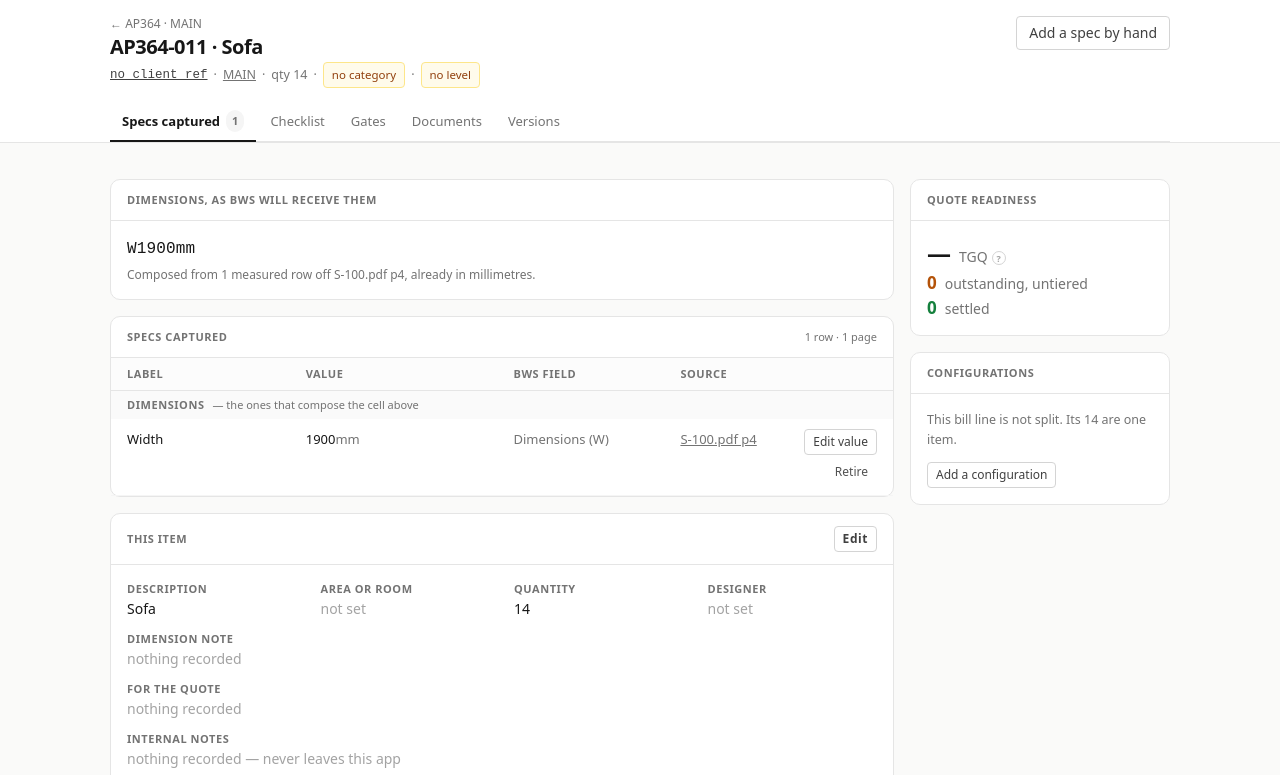
Test case: correcting a spec from the record › keeps the button alive when the server answers with something else
Click the button "Edit value".
click(841, 442)  # box top-left (804, 429), bottom-right (877, 455)
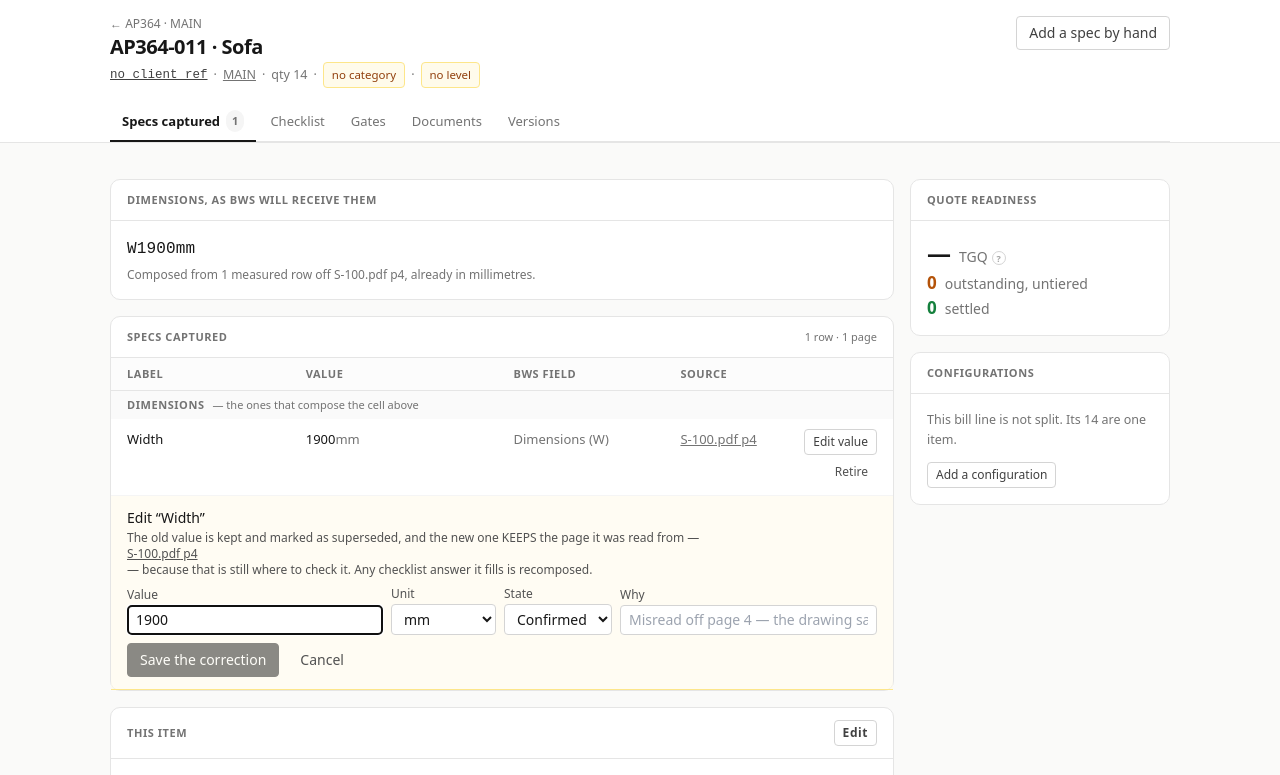
Type "Misread" into the field labelled "Why".
click(748, 620); type("Misread")  # box top-left (620, 605), bottom-right (877, 635)
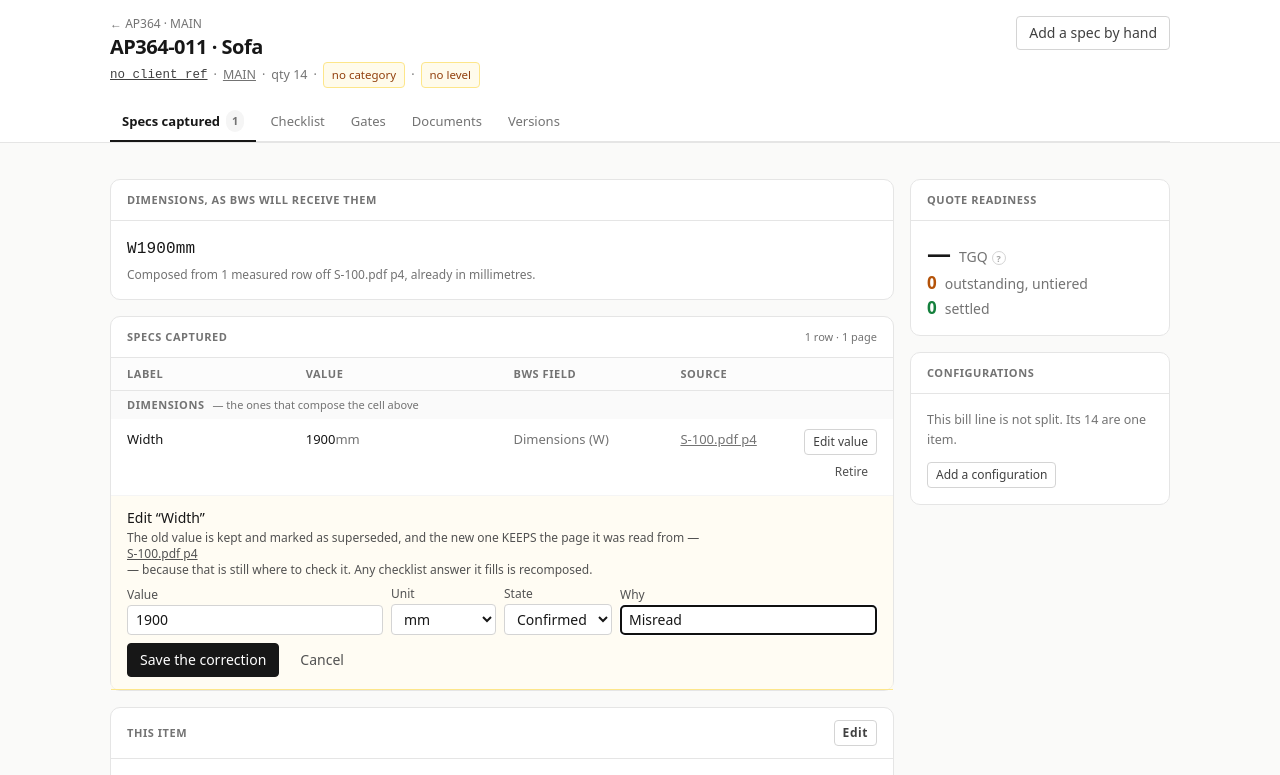
Click the button "Save the correction".
click(203, 660)  # box top-left (127, 643), bottom-right (279, 677)
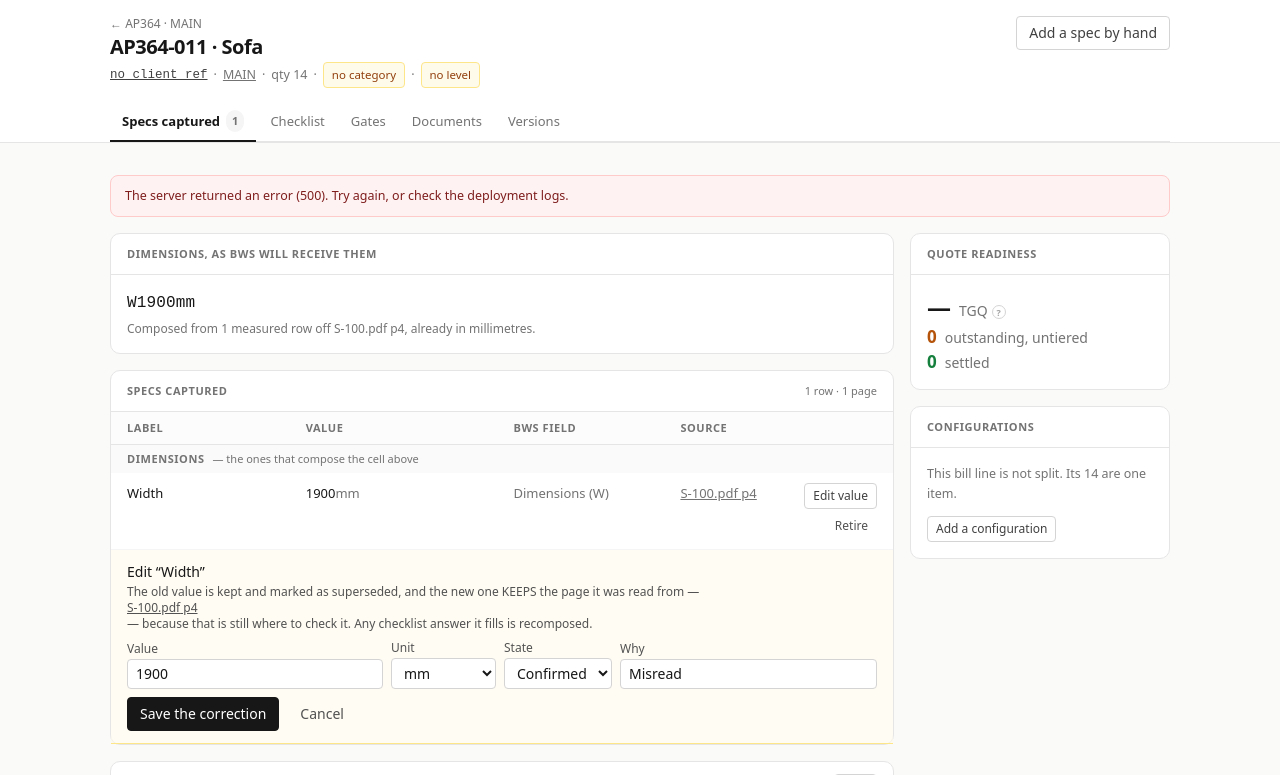
Now the button "Save the correction" is enabled, box top-left (127, 697), bottom-right (279, 731)
Now the field labelled "Value" is shown, box top-left (127, 659), bottom-right (383, 689)
Now the text "server returned an error" is shown, box top-left (125, 187), bottom-right (569, 204)
